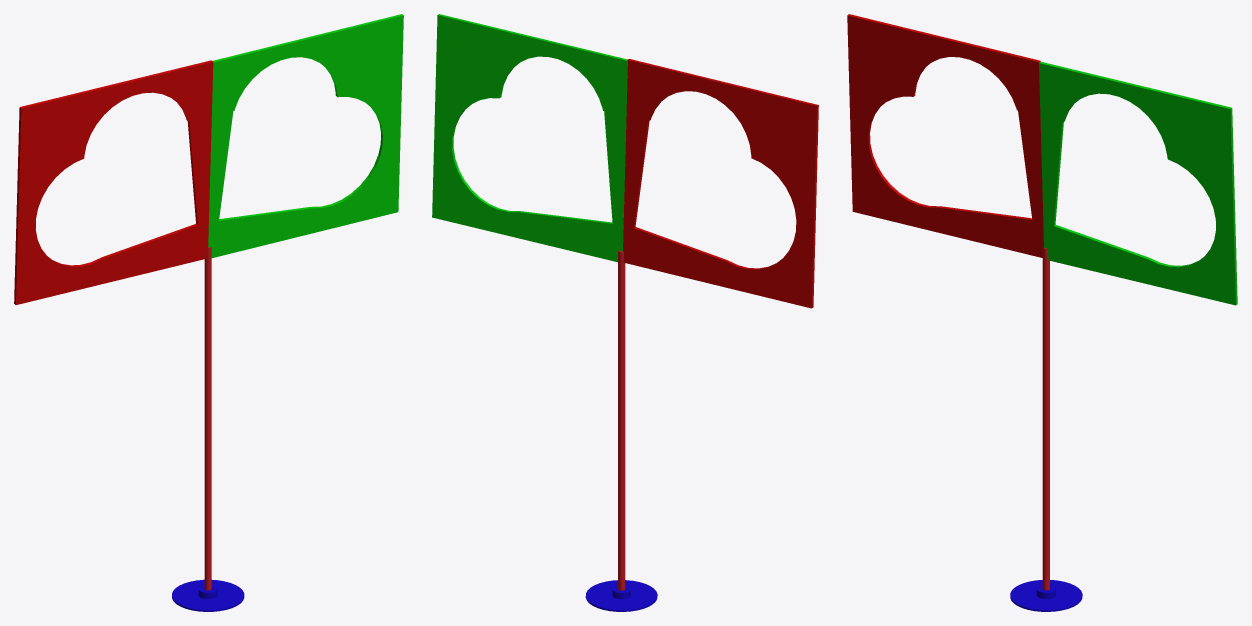
The model's file is cupid.fbx.
3 renders of one model, left to right at view 1: azimuth 30°, elevation 25°; view 2: azimuth 150°, elevation 25°; view 3: azimuth 330°, elevation 25°, orthographic.
Parts seen in each view (by area): view 1: Cylinder.002; view 2: Cylinder.002; view 3: Cylinder.002.
Part boxes in pixels (left/top/right/bottom): Cylinder.002: left=14, top=14, right=403, bottom=611; Cylinder.002: left=432, top=14, right=818, bottom=611; Cylinder.002: left=847, top=14, right=1237, bottom=611.
Bounding box in the file's own units: 122 × 164 × 20.
